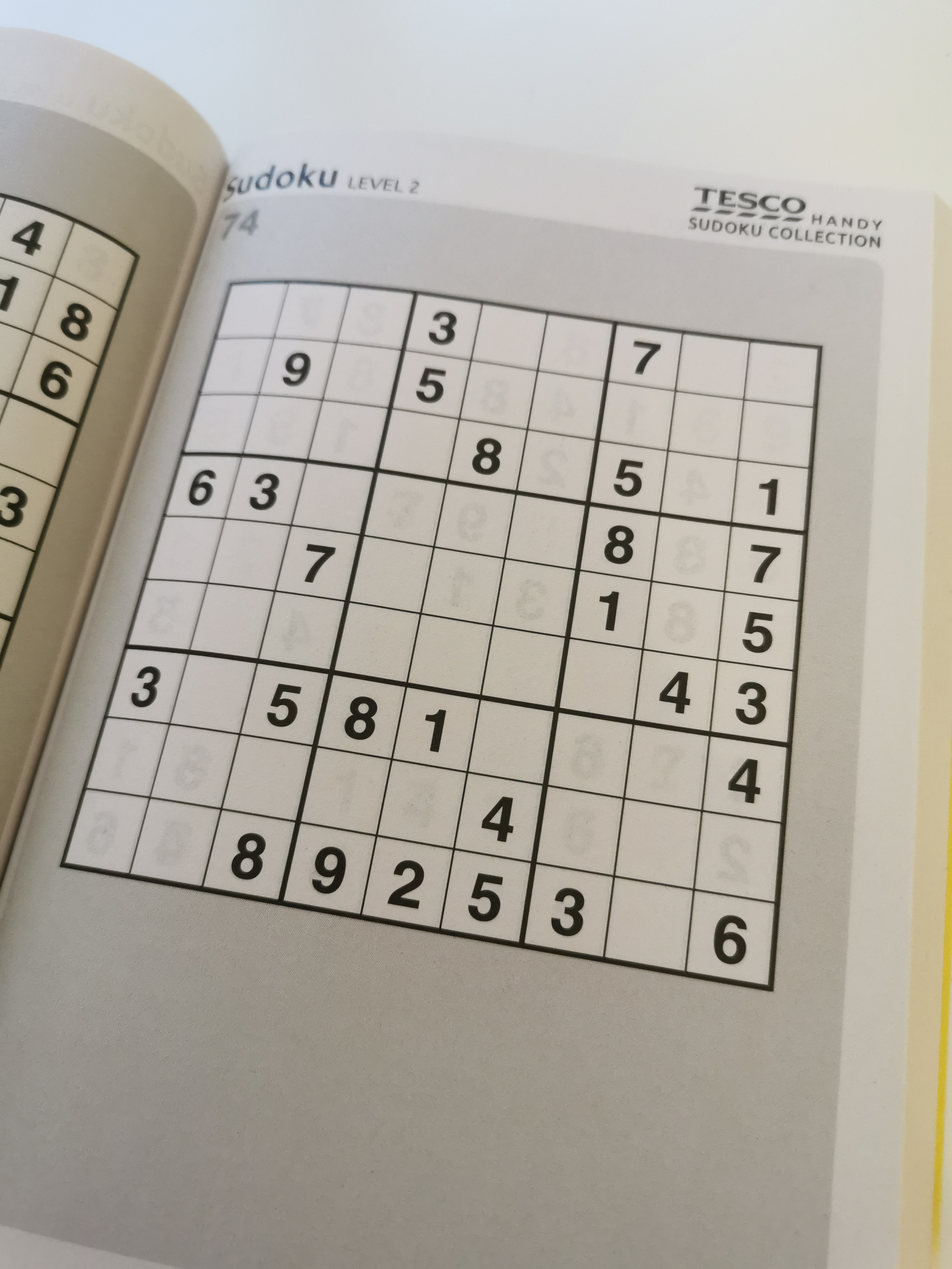sudoku: (42, 261, 832, 1024)
